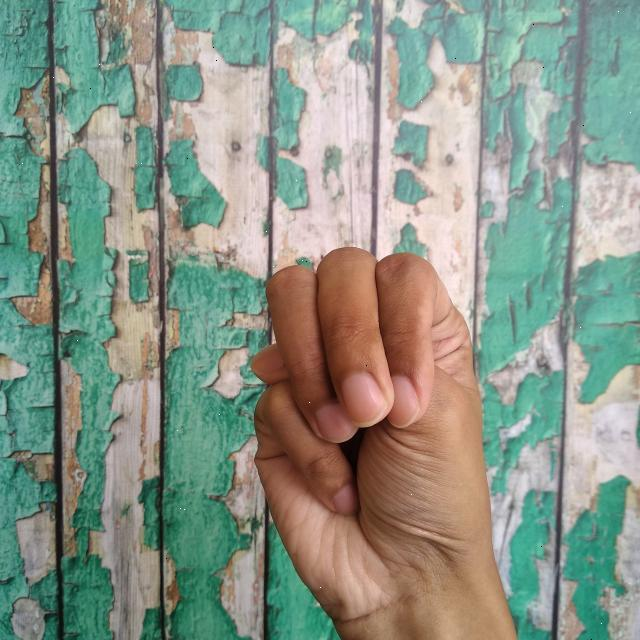M: (247, 242, 520, 640)
